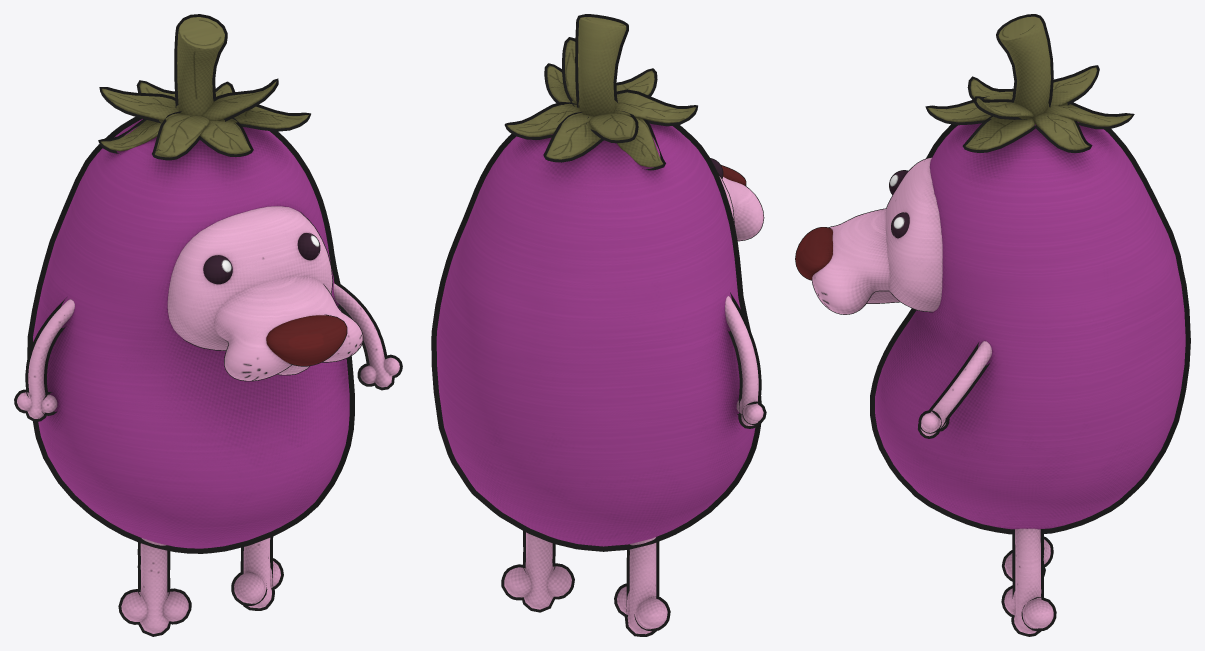
Rendered from courage_eggplant.glb.
The picture shows the model from 3 angles, left to right: view 1: azimuth 30°, elevation 25°; view 2: azimuth 150°, elevation 25°; view 3: azimuth 270°, elevation 25°; orthographic projection. The views are drawn at different scales.
Parts seen in each view (by area): view 1: Coraje, Object_Outline_0; view 2: Coraje, Object_Outline_0; view 3: Coraje, Object_Outline_0.
Part boxes in pixels (box(x1,y1,x2,y2)): Coraje: box(17, 17, 399, 633); Object_Outline_0: box(14, 14, 402, 636); Coraje: box(436, 17, 763, 634); Object_Outline_0: box(431, 14, 766, 636); Coraje: box(795, 16, 1185, 633); Object_Outline_0: box(795, 14, 1190, 636).
Size of the model in its own units: 1.63 by 2.88 by 1.76.
2 materials, 1 textured.
